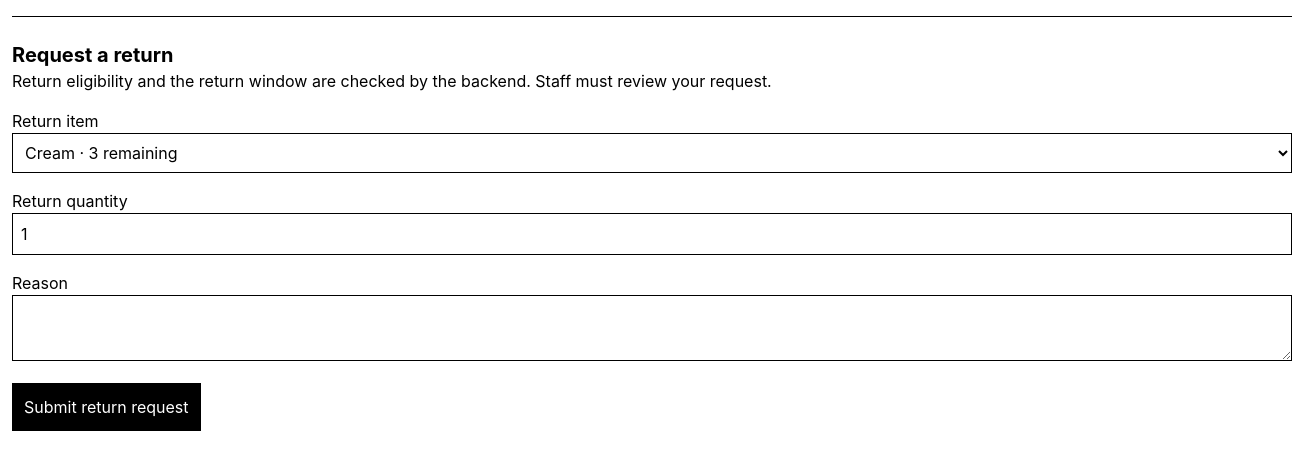
it: return requests › requires an order refresh after an ambiguous network failure
The image size is (1304, 472).
Type "Damaged" into the text box labelled "Reason" at (652, 328), box [12,295,1292,361]
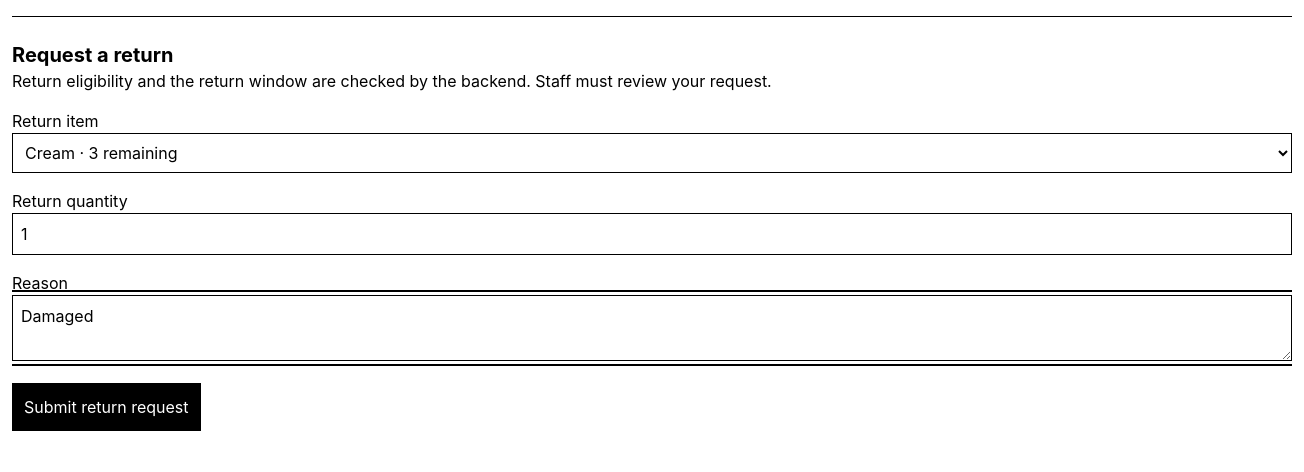
Click the button "Submit return request" at (106, 407), box [12,383,200,431]
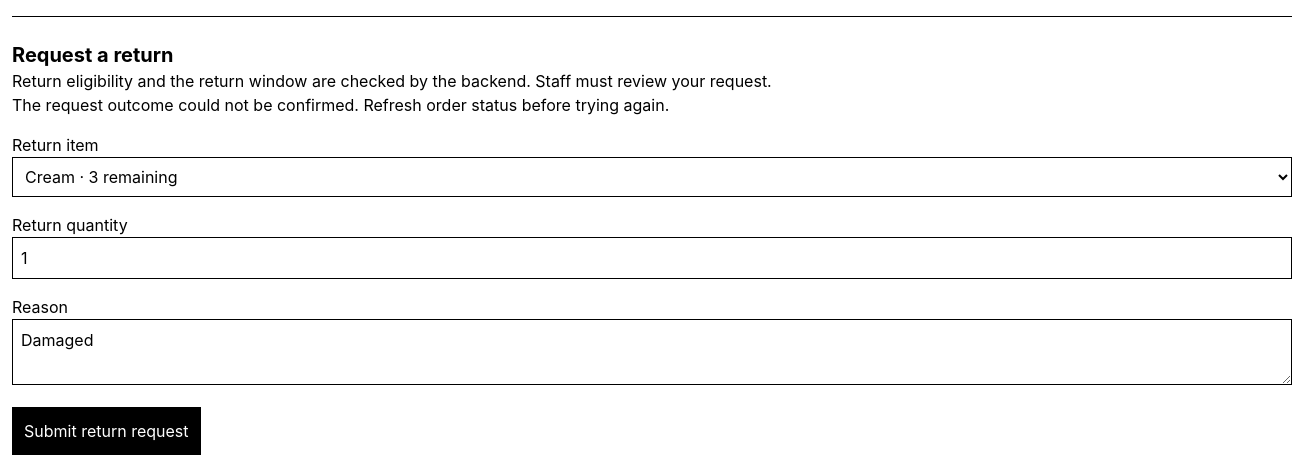
expect the message shows "Refresh order status before trying again": met, box [12,95,669,115]
expect the button "Submit return request" is disabled: met, box [12,407,200,455]
